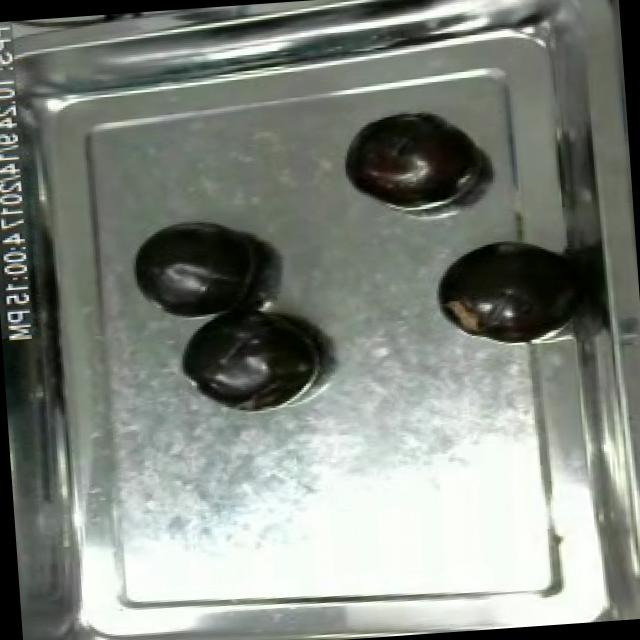Fruit: (426, 232, 576, 352), (170, 300, 326, 414), (121, 210, 268, 323), (338, 105, 477, 212)
